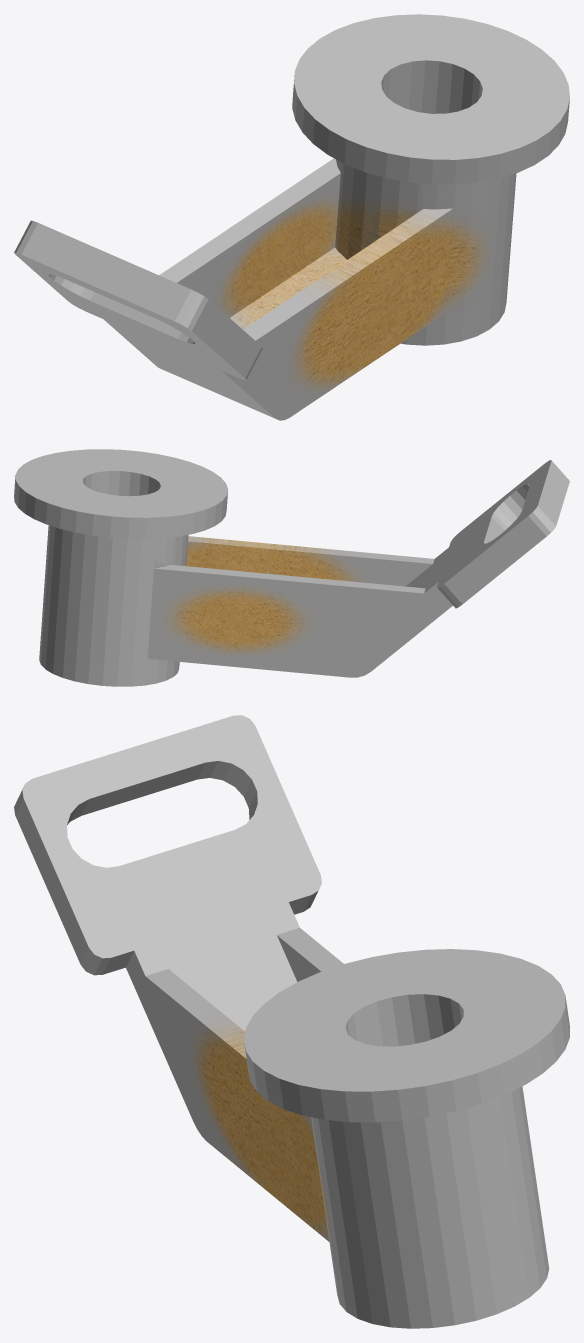
3 renders of one model, top to bottom at view 1: azimuth 30°, elevation 25°; view 2: azimuth 150°, elevation 25°; view 3: azimuth 270°, elevation 25°, orthographic. The views are drawn at different scales.
Parts seen in each view (by area): view 1: node_id28; view 2: node_id28; view 3: node_id28.
Boxes of the visible parts, box(x1,y1,x2,y2) form: node_id28: box(14, 14, 569, 420); node_id28: box(14, 449, 569, 686); node_id28: box(14, 715, 569, 1328).
Size of the model in its own units: 1.19 by 0.4966 by 0.8035.
1 material, 1 textured.
